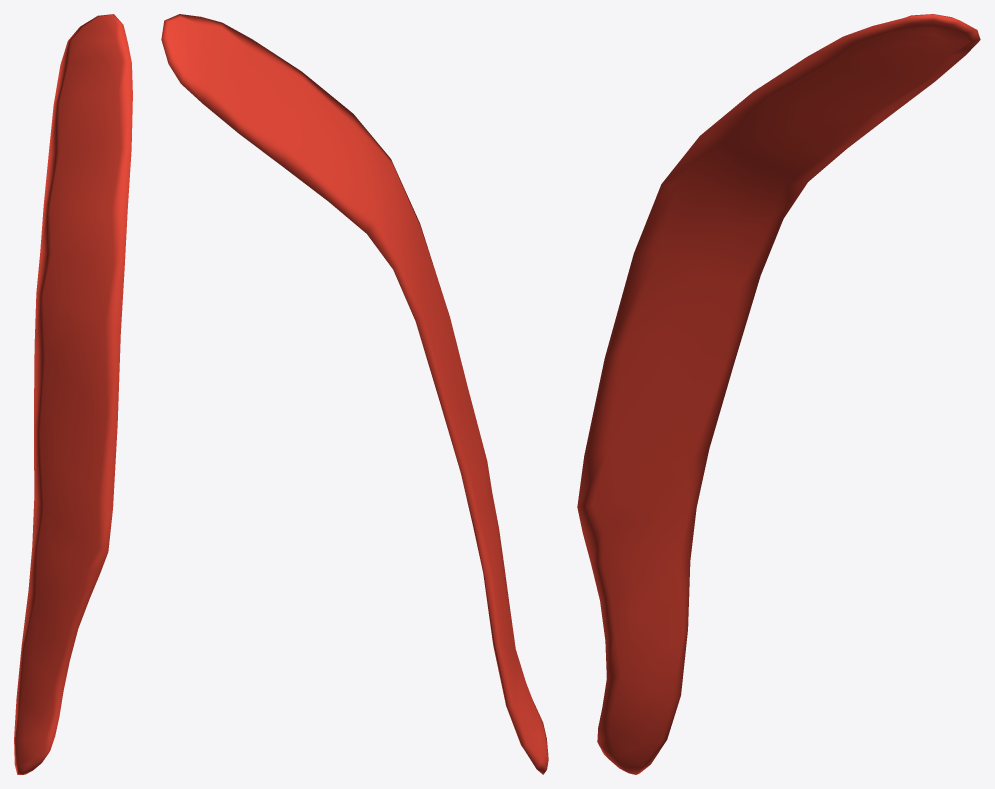
The model's file is Tensor_fasciae_latae_on_upper_anterior_iliac_spine.l_Generated_.glb.
The picture shows the model from 3 angles, left to right: view 1: azimuth 30°, elevation 25°; view 2: azimuth 150°, elevation 25°; view 3: azimuth 270°, elevation 25°; orthographic projection. The views are drawn at different scales.
Parts seen in each view (by area): view 1: Tensor_fasciae_latae_on_upper_anterior_iliac_spine.l_Generat; view 2: Tensor_fasciae_latae_on_upper_anterior_iliac_spine.l_Generat; view 3: Tensor_fasciae_latae_on_upper_anterior_iliac_spine.l_Generat.
Boxes of the visible parts, left/top/right/bottom form: Tensor_fasciae_latae_on_upper_anterior_iliac_spine.l_Generat: left=14, top=14, right=132, bottom=774; Tensor_fasciae_latae_on_upper_anterior_iliac_spine.l_Generat: left=161, top=14, right=548, bottom=774; Tensor_fasciae_latae_on_upper_anterior_iliac_spine.l_Generat: left=577, top=14, right=980, bottom=774.
Size of the model in its own units: 0.0121 by 0.0362 by 0.0148.
